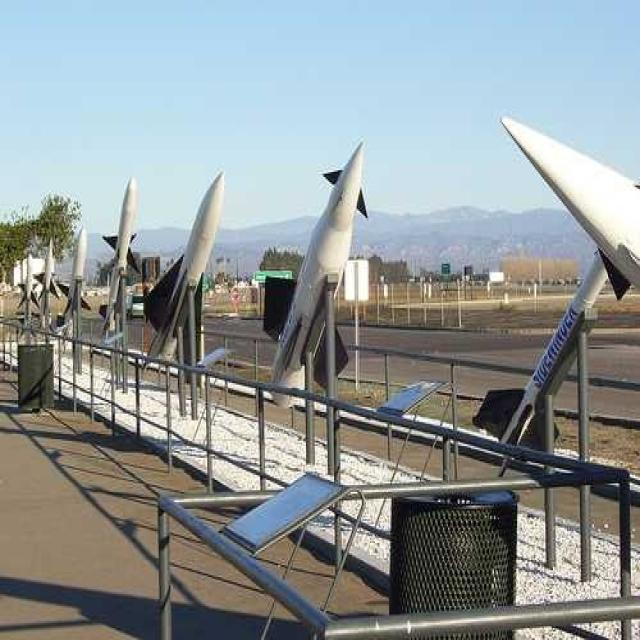missile: (482, 235, 610, 472), (264, 144, 368, 401), (142, 172, 228, 353), (102, 175, 136, 322), (66, 230, 92, 322), (42, 236, 62, 317), (19, 252, 35, 318)
